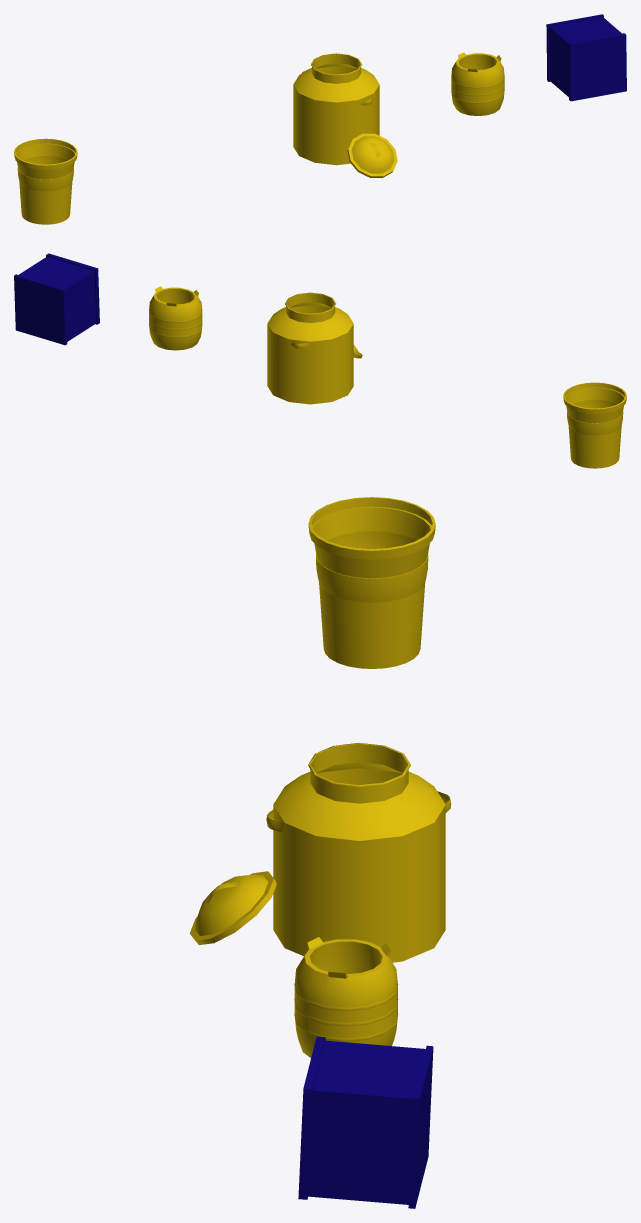
The model's file is collection objects.FBX.
3 renders of one model, top to bottom at view 1: azimuth 30°, elevation 25°; view 2: azimuth 150°, elevation 25°; view 3: azimuth 270°, elevation 25°, orthographic. The views are drawn at different scales.
Visible parts, largest first — view 1: object05, object02, object01, object04, object0501; view 2: object05, object02, object01, object04; view 3: object05, object02, object01, object04, object0501.
Part boxes in pixels (bbox=[...]): object05: bbox=[293, 53, 379, 165]; object02: bbox=[546, 14, 626, 101]; object01: bbox=[14, 138, 77, 224]; object04: bbox=[451, 52, 504, 115]; object0501: bbox=[347, 133, 397, 177]; object05: bbox=[267, 292, 353, 404]; object02: bbox=[14, 253, 99, 345]; object01: bbox=[563, 382, 626, 468]; object04: bbox=[149, 286, 202, 350]; object05: bbox=[266, 743, 451, 962]; object02: bbox=[298, 1036, 433, 1208]; object01: bbox=[308, 497, 435, 668]; object04: bbox=[294, 937, 398, 1057]; object0501: bbox=[189, 871, 276, 944].
Bounding box in the file's own units: 7.41 × 1.01 × 1.41.
